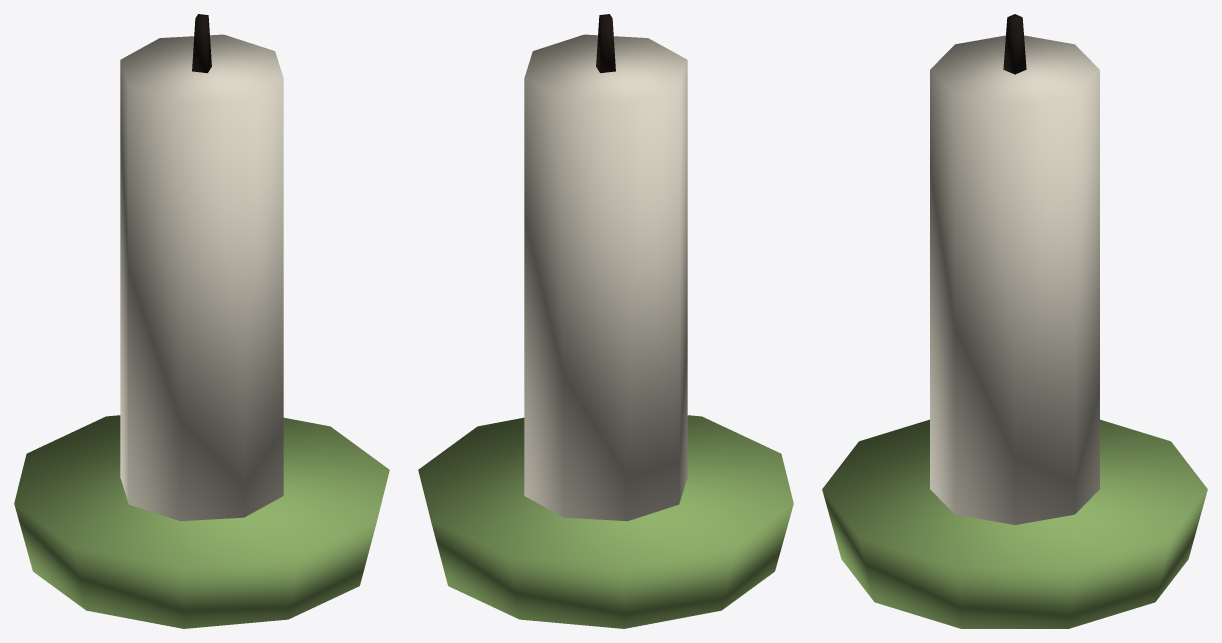
The model's file is cactus_candle_v0.glb.
The picture shows the model from 3 angles, left to right: view 1: azimuth 30°, elevation 25°; view 2: azimuth 150°, elevation 25°; view 3: azimuth 270°, elevation 25°; orthographic projection.
Visible parts, largest first — view 1: cactus_candle_v0; view 2: cactus_candle_v0; view 3: cactus_candle_v0.
Boxes of the visible parts, bbox=[...] form: cactus_candle_v0: bbox=[14, 14, 389, 628]; cactus_candle_v0: bbox=[418, 14, 793, 628]; cactus_candle_v0: bbox=[822, 14, 1207, 628].
Size of the model in its own units: 0.0951 by 0.155 by 0.1.
